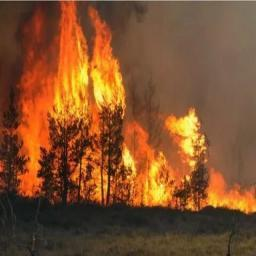Heavy smoke: (6, 0, 256, 152)
Large fire: (0, 0, 255, 219)
